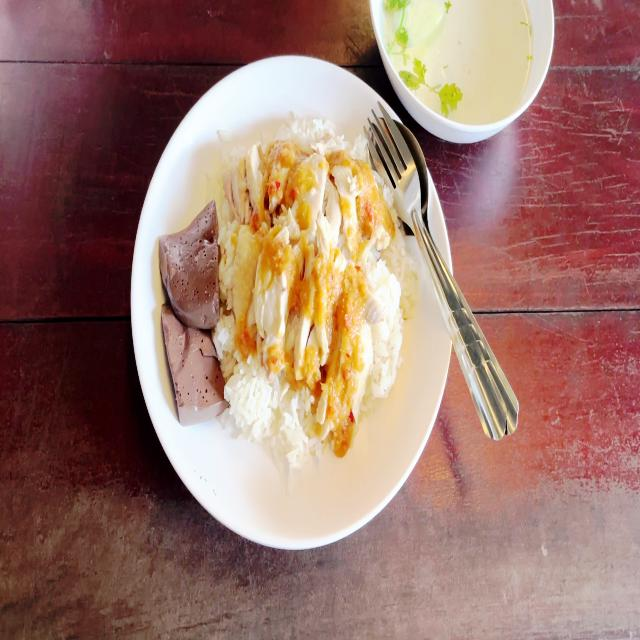boiled_chicken: (228, 138, 377, 390)
boiled_chicken_blood_jelly: (155, 204, 219, 331), (158, 300, 218, 420)
chicken_rice: (168, 109, 402, 447)
